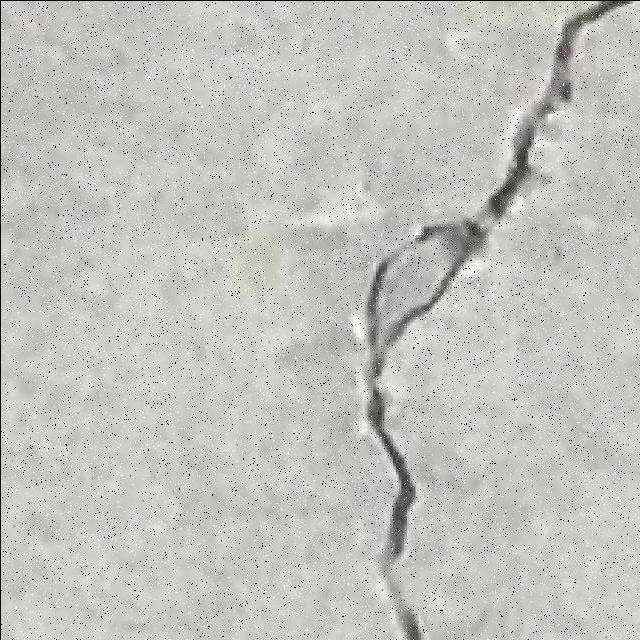crack: (356, 1, 630, 637)
